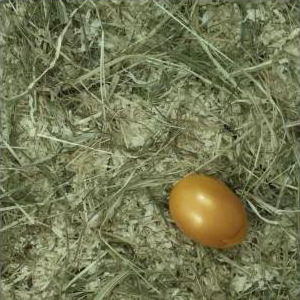egg: (169, 176, 248, 247)
